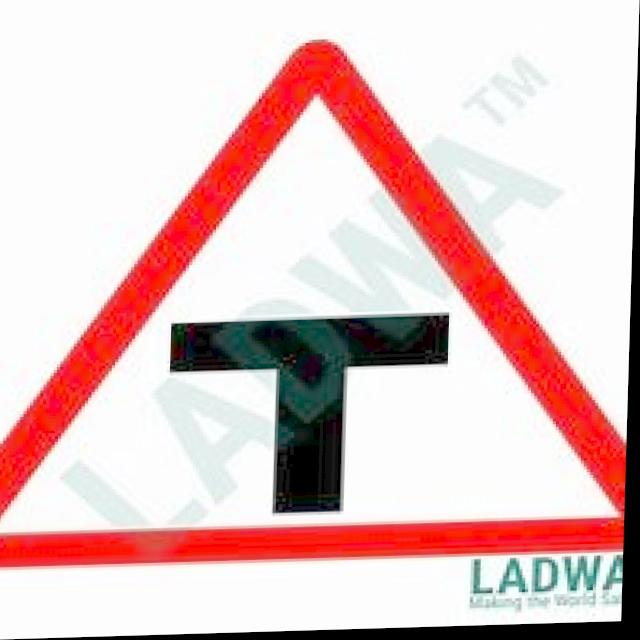T_INTERSECTION: (0, 0, 640, 571)
